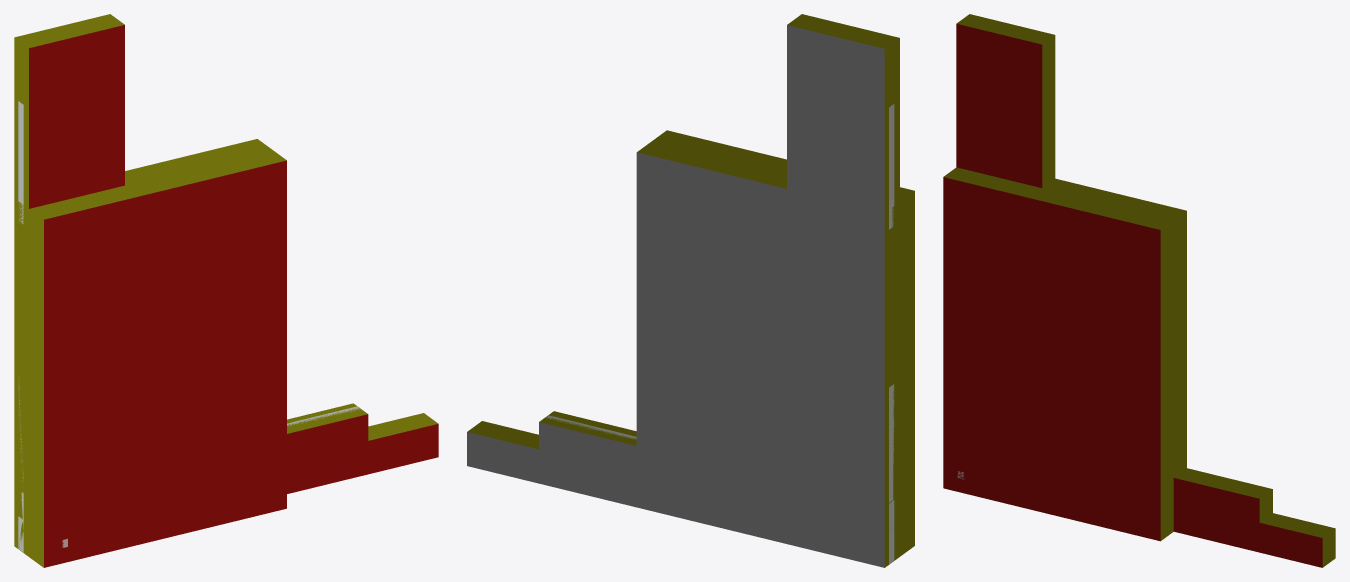
The model's file is idf.obj.
3 views of the same model, side by side, from view 1: azimuth 30°, elevation 25°; view 2: azimuth 150°, elevation 25°; view 3: azimuth 330°, elevation 25° (orthographic). The views are drawn at different scales.
Size of the model in its own units: 64 by 76 by 8.
